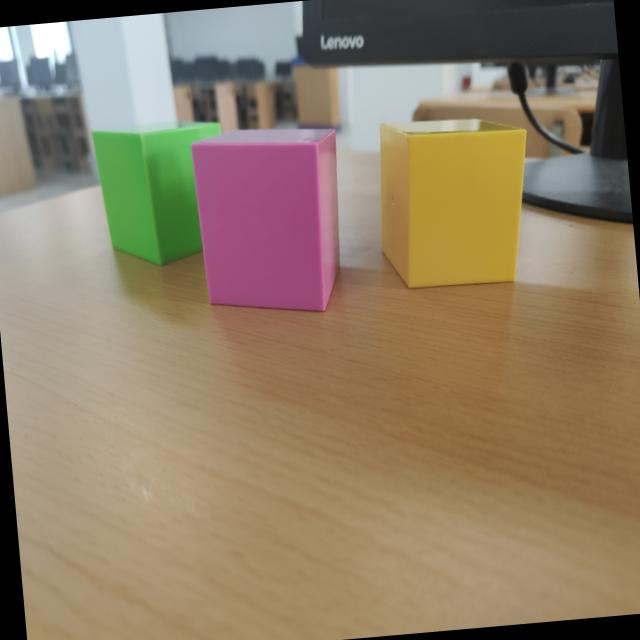green: (90, 122, 221, 267)
pink: (190, 127, 340, 314)
yellow: (379, 122, 527, 290)
